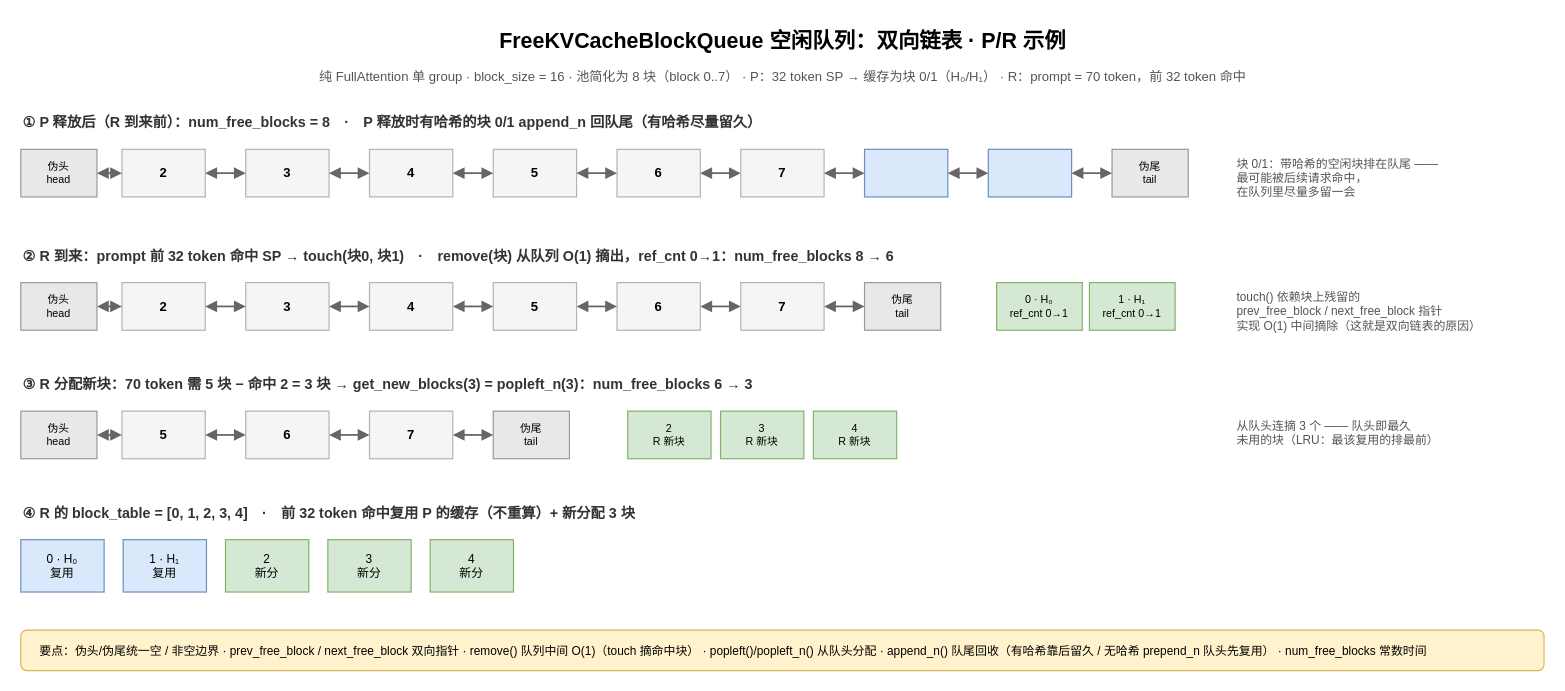
This 1565x691 diagram has some shape labels left out. The centre of each missing label's shape, as x and y in pixels:
0 · H₀: the point at 905,172
1 · H₁: the point at 1029,172
